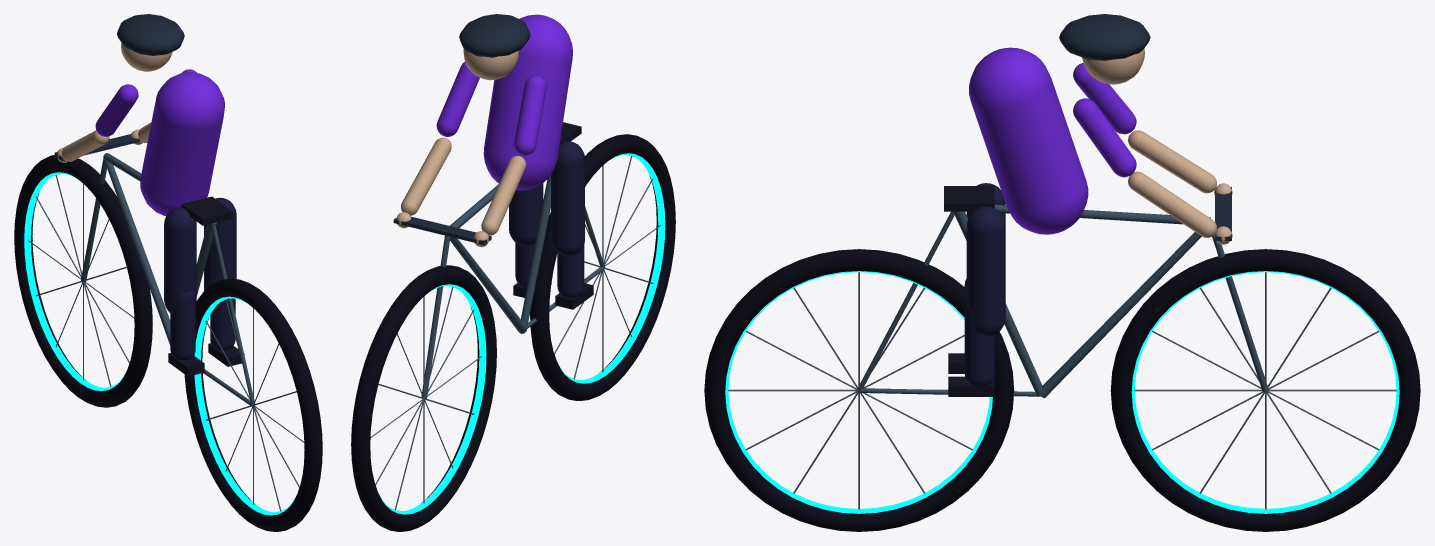
Rendered from cyclist.glb.
3 renders of one model, left to right at view 1: azimuth 30°, elevation 25°; view 2: azimuth 150°, elevation 25°; view 3: azimuth 270°, elevation 25°, orthographic. The views are drawn at different scales.
Visible parts, largest first — view 1: torso, frontTire, rearTire, rightLeg, frame, leftLeg, helmet, frontRim, rearRim, frontSpokes, rearSpokes, upperArms (+6 smaller); view 2: frontTire, torso, rearTire, rightLeg, frame, forearms, upperArms, helmet, leftLeg, frontRim, rearRim, frontSpokes (+4 smaller); view 3: frontTire, rearTire, torso, frame, leftLeg, forearms, upperArms, frontSpokes, helmet, rearSpokes, frontRim, rearRim (+2 smaller).
Boxes of the visible parts, left/top/right/bottom form: torso: left=140, top=72, right=224, bottom=216; frontTire: left=14, top=155, right=152, bottom=407; rearTire: left=184, top=278, right=322, bottom=531; rightLeg: left=164, top=207, right=196, bottom=360; frame: left=81, top=153, right=254, bottom=406; leftLeg: left=204, top=197, right=236, bottom=350; helmet: left=117, top=14, right=184, bottom=55; frontRim: left=24, top=172, right=124, bottom=391; rearRim: left=194, top=296, right=294, bottom=515; frontSpokes: left=28, top=175, right=134, bottom=386; rearSpokes: left=204, top=299, right=304, bottom=511; upperArms: left=95, top=69, right=196, bottom=136; frontTire: left=351, top=265, right=496, bottom=531; torso: left=483, top=14, right=572, bottom=190; rearTire: left=530, top=134, right=675, bottom=400; rightLeg: left=551, top=141, right=584, bottom=297; frame: left=421, top=175, right=604, bottom=399; forearms: left=396, top=137, right=526, bottom=247; upperArms: left=436, top=62, right=546, bottom=155; helmet: left=459, top=14, right=530, bottom=57; leftLeg: left=509, top=183, right=543, bottom=287; frontRim: left=381, top=284, right=486, bottom=514; rearRim: left=560, top=153, right=665, bottom=383; frontSpokes: left=370, top=287, right=481, bottom=510; frontTire: left=1110, top=249, right=1420, bottom=531; rearTire: left=704, top=249, right=1014, bottom=531; torso: left=969, top=47, right=1088, bottom=234; frame: left=857, top=204, right=1268, bottom=398; leftLeg: left=964, top=206, right=1005, bottom=386; forearms: left=1128, top=130, right=1232, bottom=244; upperArms: left=1073, top=63, right=1136, bottom=177; frontSpokes: left=1134, top=272, right=1396, bottom=509; helmet: left=1059, top=14, right=1150, bottom=60; rearSpokes: left=728, top=272, right=972, bottom=509; frontRim: left=1131, top=271, right=1399, bottom=513; rearRim: left=725, top=271, right=992, bottom=513.
Bounding box in the file's own units: 0.2991 × 1.33 × 1.69.
